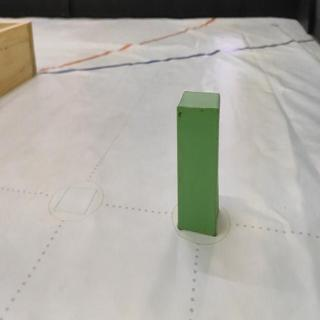greenbox: (176, 88, 221, 237)
